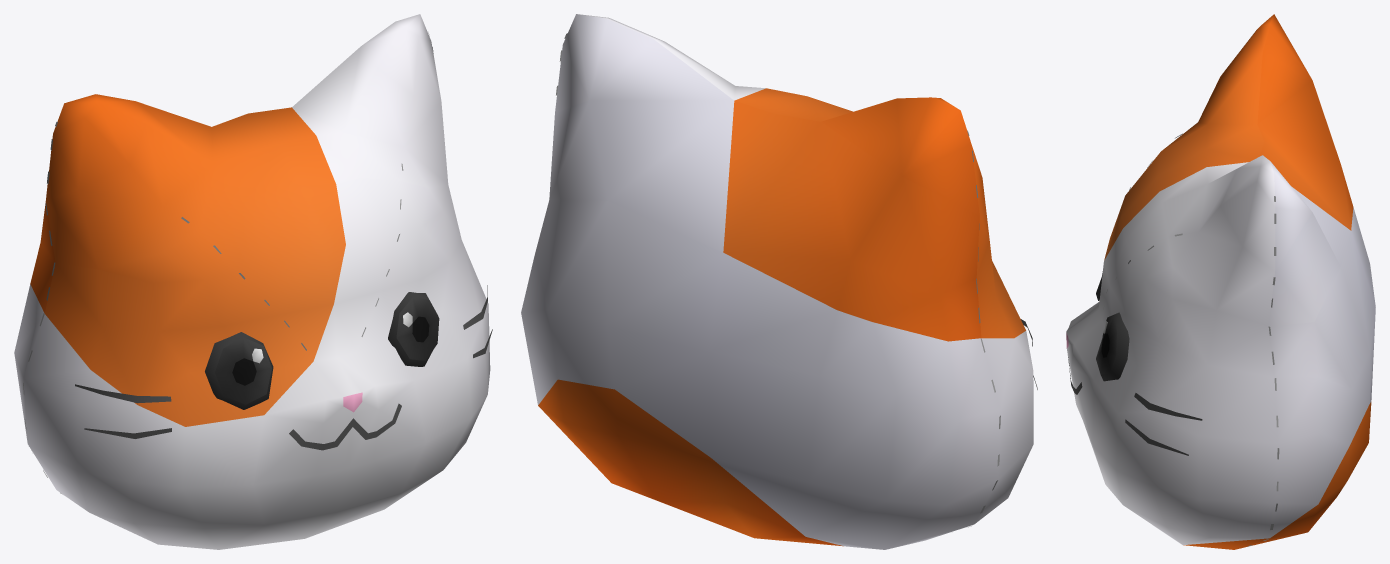
File: CR_Catcushion_001.FBX
3 renders of one model, left to right at view 1: azimuth 30°, elevation 25°; view 2: azimuth 150°, elevation 25°; view 3: azimuth 270°, elevation 25°, orthographic. The views are drawn at different scales.
Parts seen in each view (by area): view 1: CR_Catcushion_001; view 2: CR_Catcushion_001; view 3: CR_Catcushion_001.
Boxes of the visible parts, left/top/right/bottom form: CR_Catcushion_001: left=14, top=14, right=492, bottom=549; CR_Catcushion_001: left=521, top=14, right=1037, bottom=549; CR_Catcushion_001: left=1066, top=14, right=1375, bottom=549.
Size of the model in its own units: 28.52 by 27.93 by 18.84.
1 material, 1 textured.
